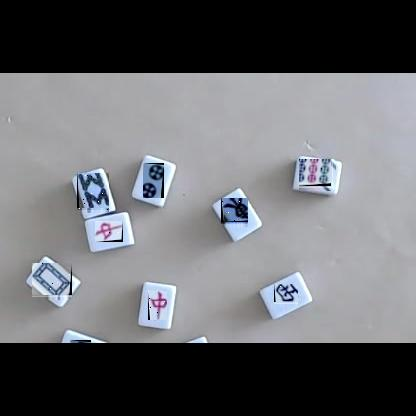1z: (221, 199, 248, 227)
2p: (143, 163, 164, 198)
3z: (274, 285, 298, 307), (70, 340, 91, 343)
5z: (32, 264, 72, 300)
7z: (95, 221, 123, 242), (148, 290, 167, 320)
8s: (77, 174, 109, 213)
9p: (300, 160, 336, 191)
